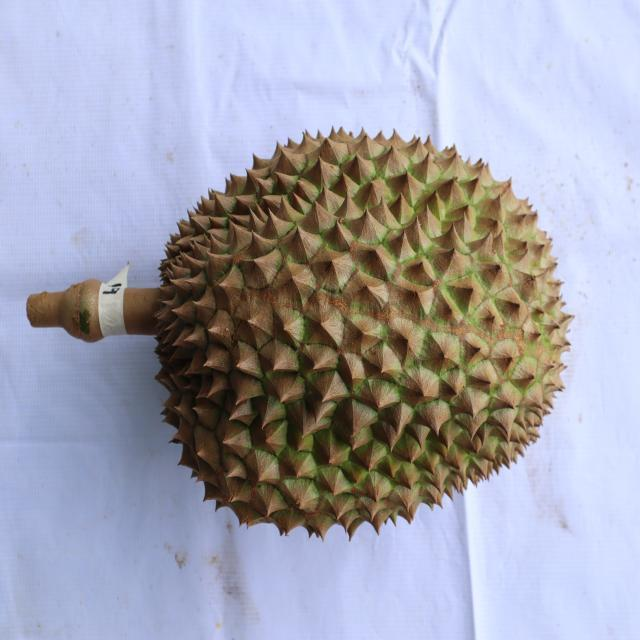mature: (151, 121, 573, 543)
